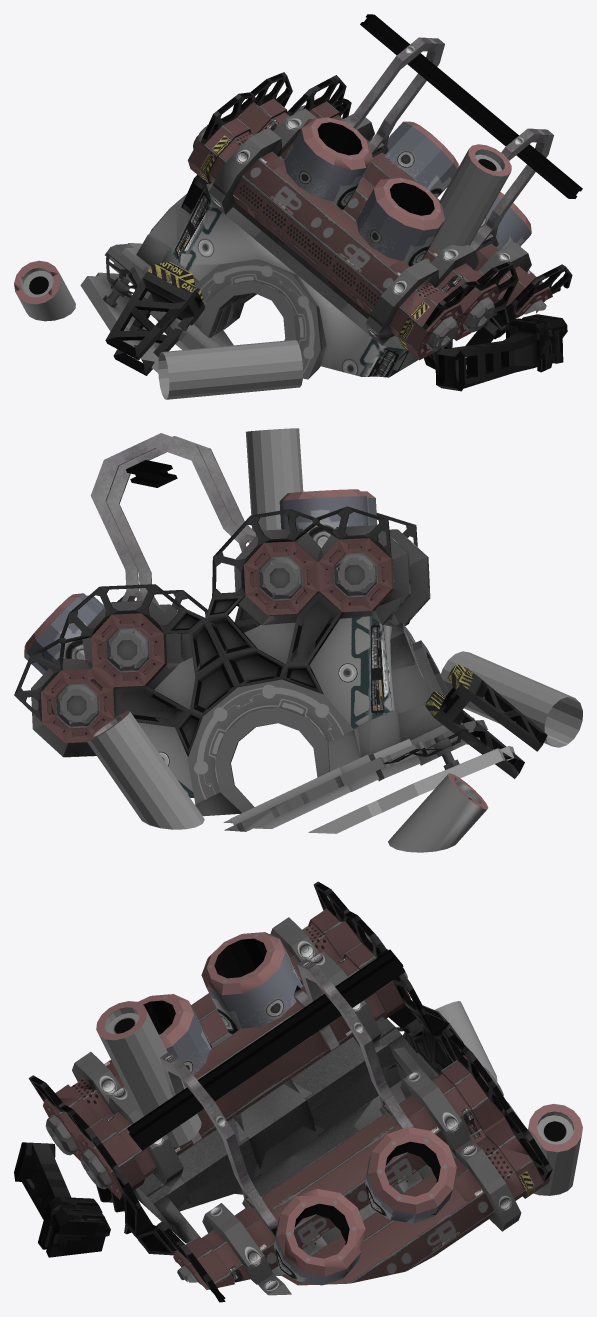
File: broken-assembling-3x3.glb
3 views of the same model, one above another, from view 1: azimuth 30°, elevation 25°; view 2: azimuth 150°, elevation 25°; view 3: azimuth 270°, elevation 25° (orthographic). The views are drawn at different scales.
Parts seen in each view (by area): view 1: lifangti; view 2: lifangti; view 3: lifangti.
Part boxes in pixels (left/top/right/bottom): lifangti: left=14, top=14, right=582, bottom=399; lifangti: left=14, top=428, right=582, bottom=852; lifangti: left=14, top=881, right=582, bottom=1302.
Bounding box in the file's own units: 42.46 × 22.48 × 40.55.
Materials: 1 (1 with a texture image).
